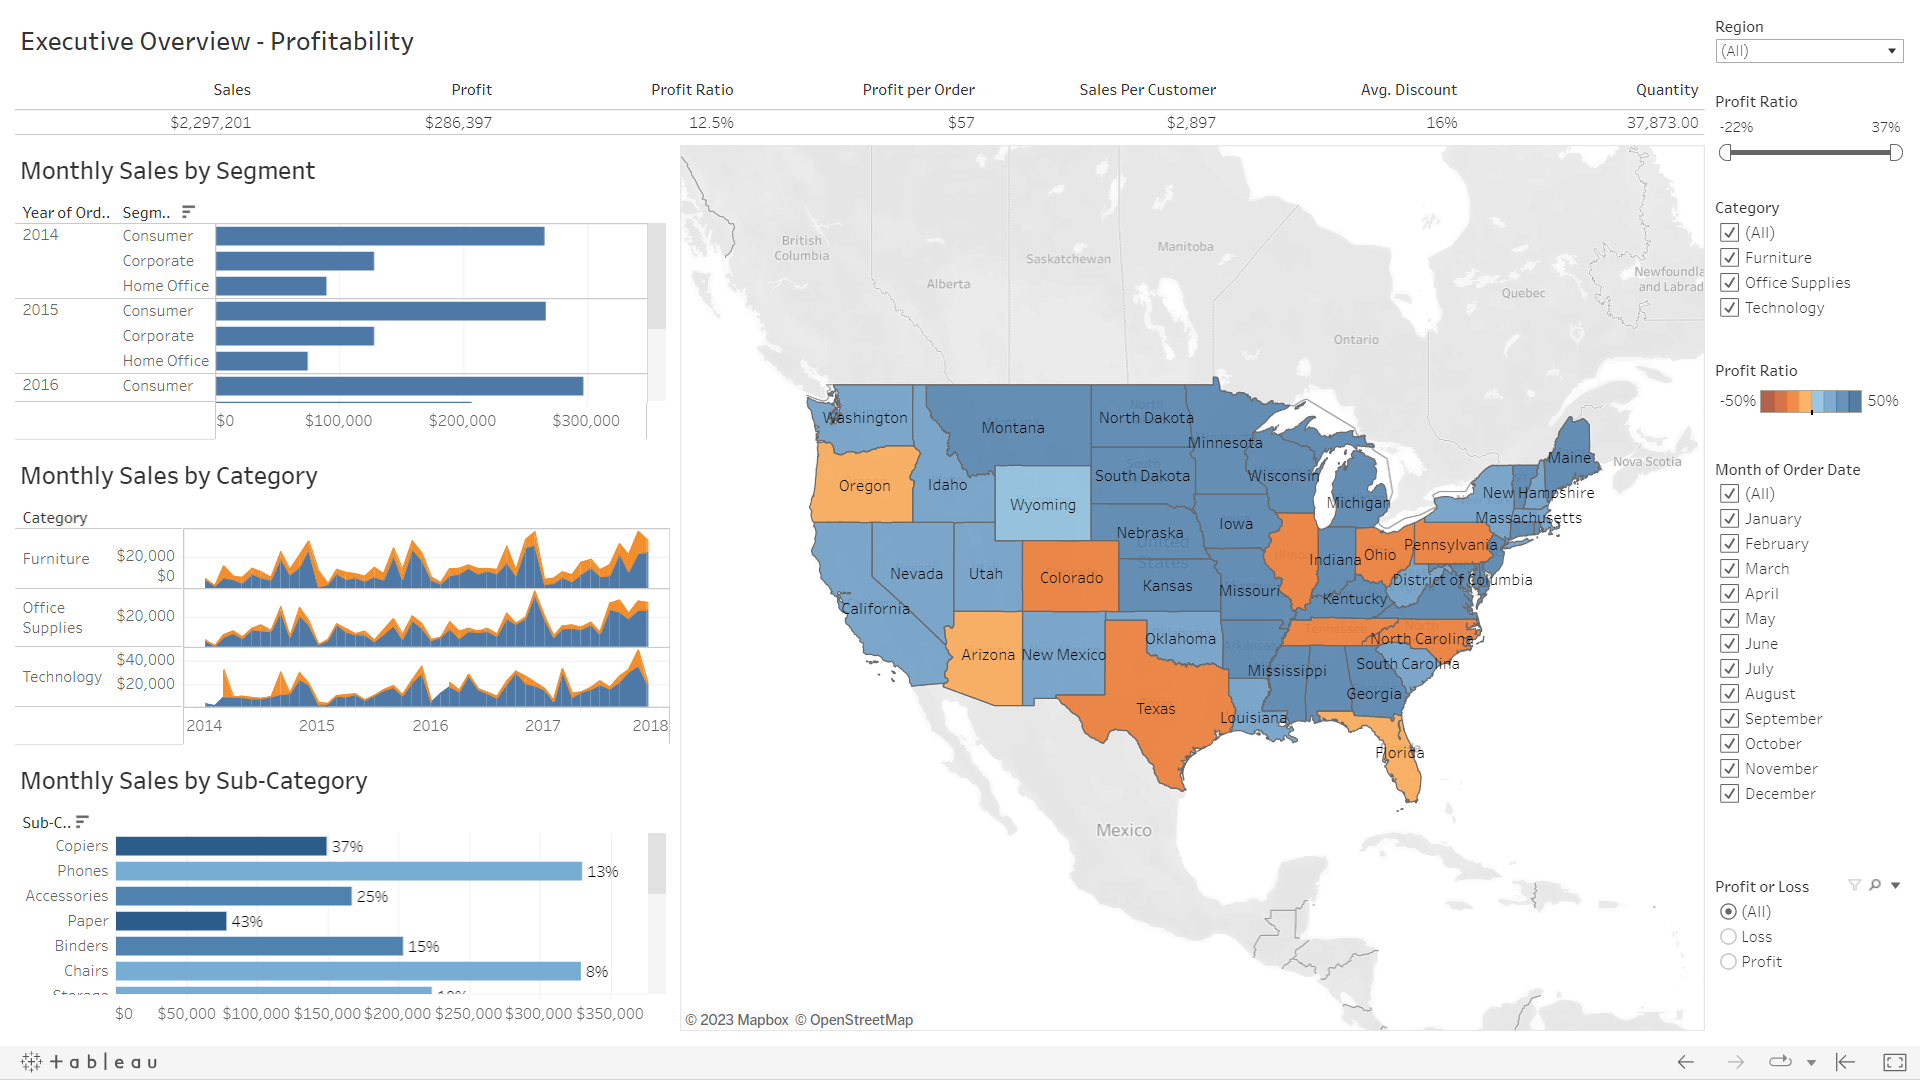

What the dashboard file says about the page in this screenshot:
{"tool":"tableau","page":{"name":"Dashboard 1","canvas":[1000,1000],"units":"permille","ordinal":0},"visuals":[{"type":"worksheet","title":"Key Performance Indicators","mark":"Automatic","box":[4.8,9.4,894.8,131.6]},{"type":"filter","title":"Profit Ratio by Geography","param":"[federated.16t2bre0v8ista1gvrixr1tbvfus].[none:Region:nk]","box":[899.6,9.4,95.6,71.7]},{"type":"filter","title":"Profit Ratio by Geography","param":"[federated.16t2bre0v8ista1gvrixr1tbvfus].[usr:Calculation_1507861460511830016:qk","box":[899.6,81.1,95.6,99.9]},{"type":"worksheet","title":"Sales by Segment","mark":"Bar","rows":["Order Date","Segment"],"cols":["Sales"],"box":[4.8,141,399.9,290.2]},{"type":"worksheet","title":"Profit Ratio by Geography","mark":"Automatic","box":[404.6,141,494.9,849.6]},{"type":"filter","title":"Profit Ratio by Geography","param":"[federated.16t2bre0v8ista1gvrixr1tbvfus].[none:Category:nk]","box":[899.6,181,95.6,153.9]},{"type":"legend","title":"Profit Ratio by Geography","param":"[federated.16t2bre0v8ista1gvrixr1tbvfus].[usr:Calculation_1507861460511830016:qk","box":[899.6,334.9,95.6,91.7]},{"type":"filter","title":"Key Performance Indicators","param":"[federated.16t2bre0v8ista1gvrixr1tbvfus].[mn:Order Date:ok]","box":[899.6,426.6,95.6,407.8]},{"type":"worksheet","title":"Sales by Category","mark":"Area","rows":["Category","Sales"],"cols":["Order Date"],"box":[4.8,431.2,399.9,290.2]},{"type":"worksheet","title":"Profit Ratio by Sub-Category","mark":"Automatic","rows":["Sub-Category"],"cols":["Sales"],"box":[4.8,721.5,399.9,269.1]},{"type":"filter","title":"Key Performance Indicators","param":"[federated.16t2bre0v8ista1gvrixr1tbvfus].[none:Calculation_1507861460524601345:n","box":[899.6,834.3,95.6,156.3]}]}

Visuals, with their boxes on the dashboard's canvas, which has no fixed pixel size, in thousandths of its width and height (x1, y1, x2, y2). These are canvas units, not pixel positions in the 1920x1080 screenshot, which may show the page scaled, cropped or inside an application window:
"Key Performance Indicators" worksheet: [left=5, top=9, right=900, bottom=141]
"Profit Ratio by Geography" filter: [left=900, top=9, right=995, bottom=81]
"Profit Ratio by Geography" filter: [left=900, top=81, right=995, bottom=181]
"Sales by Segment" worksheet (Bar marks): [left=5, top=141, right=405, bottom=431]
"Profit Ratio by Geography" worksheet: [left=405, top=141, right=900, bottom=991]
"Profit Ratio by Geography" filter: [left=900, top=181, right=995, bottom=335]
"Profit Ratio by Geography" legend: [left=900, top=335, right=995, bottom=427]
"Key Performance Indicators" filter: [left=900, top=427, right=995, bottom=834]
"Sales by Category" worksheet (Area marks): [left=5, top=431, right=405, bottom=721]
"Profit Ratio by Sub-Category" worksheet: [left=5, top=722, right=405, bottom=991]
"Key Performance Indicators" filter: [left=900, top=834, right=995, bottom=991]
